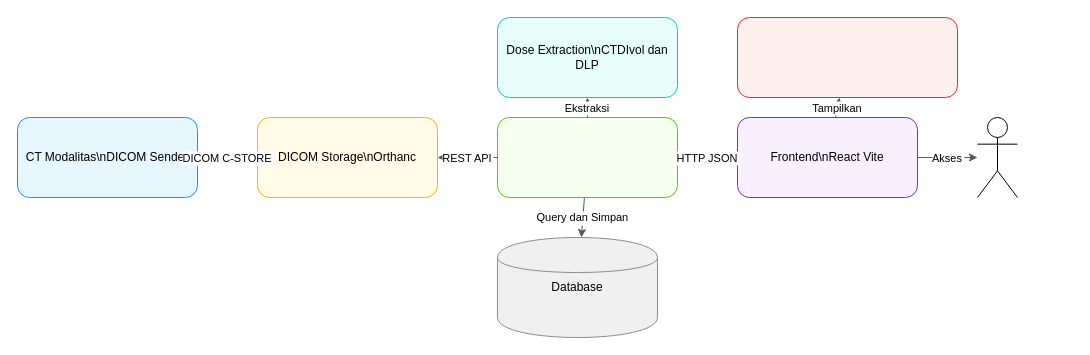
This 1090x355 diagram has some shape labels left out. The centre of each missing label's shape, as x and y in pixels:
"Backend\nFastAPI" belongs at (x=587, y=157).
"Pengguna\nAdmin dan User" belongs at (x=997, y=157).
"Reporting dan Export\nOutput CTDIvol Total DLP" belongs at (x=847, y=57).
